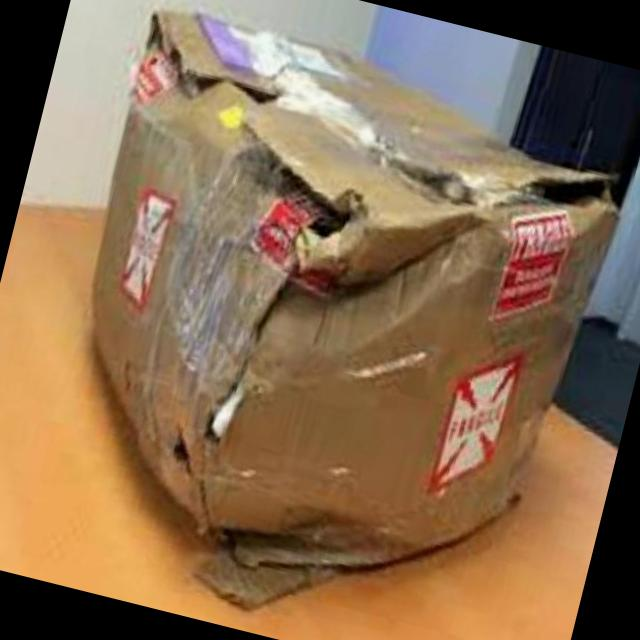box: (82, 9, 619, 610)
crushed: (242, 180, 453, 345), (194, 497, 386, 610)
opened: (137, 10, 291, 109), (176, 365, 260, 470), (508, 157, 620, 233)
